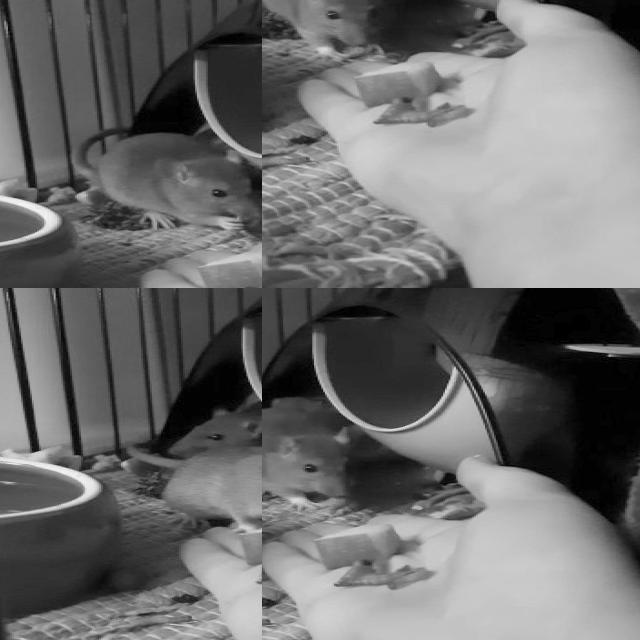rat: (99, 133, 262, 241), (163, 445, 262, 563), (262, 405, 369, 512), (262, 0, 402, 60)
